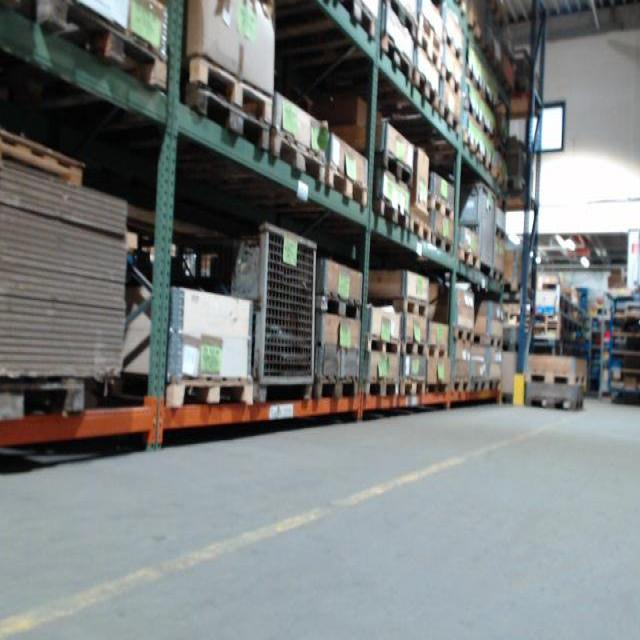pallet: (31, 0, 170, 94), (185, 53, 274, 124), (180, 85, 272, 152), (0, 128, 88, 189), (0, 375, 86, 423), (268, 126, 327, 185), (165, 372, 254, 411), (326, 165, 370, 209), (335, 0, 378, 40), (374, 147, 415, 188), (315, 287, 363, 322), (380, 33, 413, 81), (372, 194, 410, 231), (411, 67, 440, 112), (524, 367, 588, 386), (313, 376, 360, 401), (524, 391, 585, 409), (417, 29, 442, 68), (389, 0, 417, 34), (362, 375, 400, 398), (365, 332, 401, 356), (443, 30, 464, 66), (438, 103, 462, 134), (429, 194, 456, 221), (441, 65, 464, 96), (395, 296, 429, 315), (409, 215, 432, 241), (430, 229, 453, 255), (398, 378, 426, 397), (458, 246, 480, 269), (402, 339, 428, 357), (450, 376, 470, 394), (453, 325, 473, 343), (426, 345, 450, 358), (489, 333, 504, 350), (489, 266, 504, 282), (472, 379, 487, 392), (487, 376, 500, 389), (495, 226, 506, 241)
stillage: (166, 217, 327, 409)
